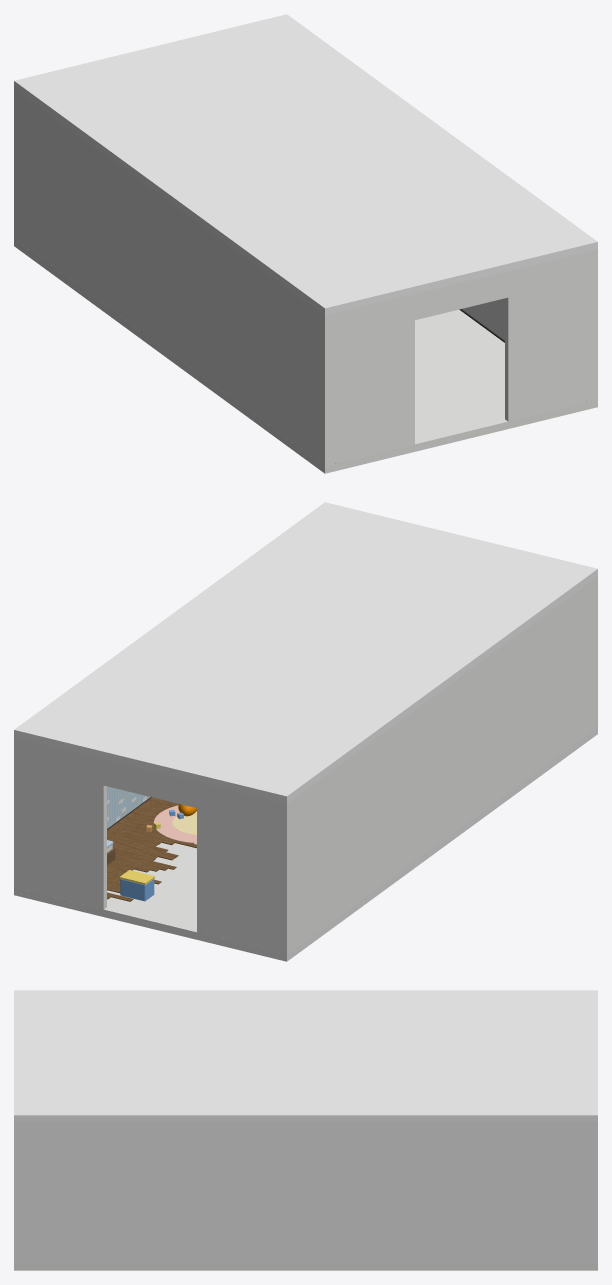
File: room_kids_s2.glb
3 views of the same model, one above another, from view 1: azimuth 30°, elevation 25°; view 2: azimuth 150°, elevation 25°; view 3: azimuth 270°, elevation 25° (orthographic). The views are drawn at different scales.
Parts seen in each view (by area): view 1: room_kids_s2_static; view 2: room_kids_s2_static; view 3: room_kids_s2_static.
Boxes of the visible parts, x1,y1,x2,y2 form: room_kids_s2_static: (14, 14, 597, 473); room_kids_s2_static: (14, 502, 597, 961); room_kids_s2_static: (14, 990, 597, 1270).
Size of the model in its own units: 7.6 by 4.4 by 15.
23 materials, 4 textured.
